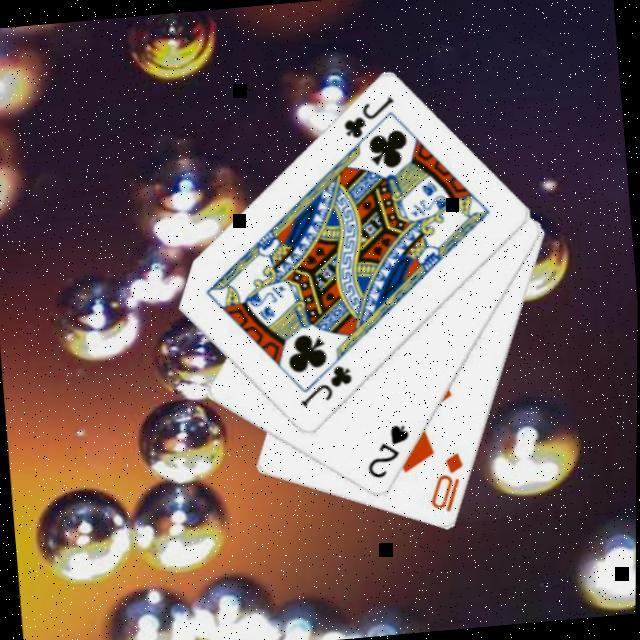10D: (424, 449, 472, 517)
2S: (362, 421, 418, 483)
JC: (338, 93, 401, 144), (295, 362, 359, 412)
